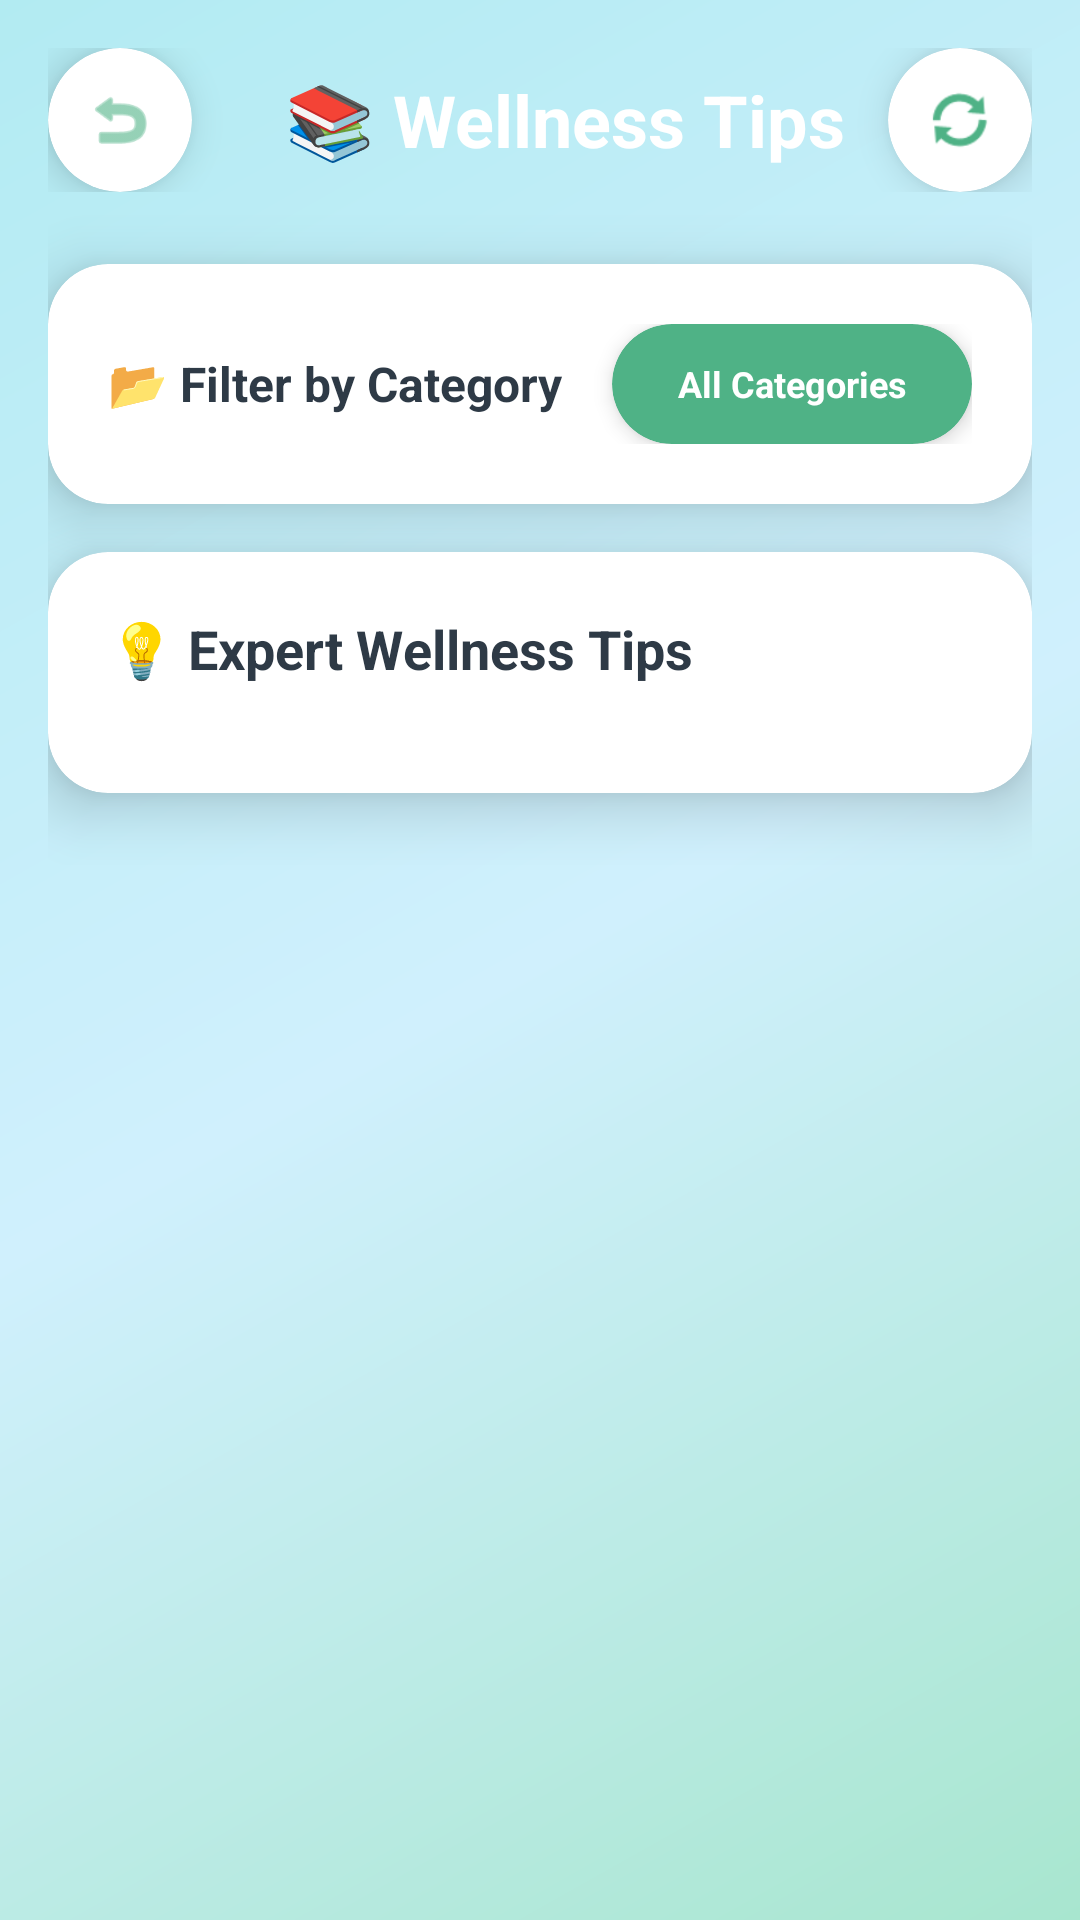

Named icons in this screenshot (1080 x 1920) and their centers, [x,y]:
popup sync: [960,120]
revert: [121,120]
